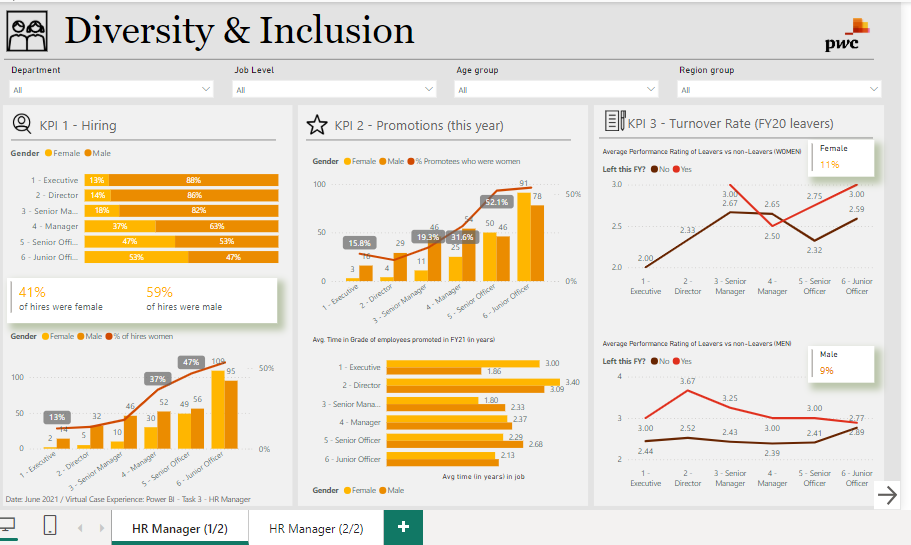

The dashboard page shown, as its layout file describes it:
{"tool":"powerbi","page":{"name":"HR Manager (1/2)","canvas":[1280,720],"ordinal":0},"visuals":[{"type":"textbox","box":[88.7,4.8,1172.9,75.2],"z":0},{"type":"basicShape","box":[0,60.8,1253,40.5],"z":1000},{"type":"basicShape","box":[3.9,139.9,418.6,579.7],"z":2000},{"type":"hundredPercentStackedBarChart","fields":{"Series":["HR Manager.Gender"],"Y":["CountNonNull(HR Manager.Employee ID)"],"Category":["HR Manager.Job Level after FY20 promotions"]},"box":[14.5,193.9,389.7,190],"z":3000},{"type":"multiRowCard","fields":{"Values":["HR Manager.% of hires women","HR Manager.% of hires men"]},"box":[14.5,390.7,382.9,63.7],"z":4000},{"type":"lineClusteredColumnComboChart","fields":{"Category":["HR Manager.Job Level after FY20 promotions"],"Series":["HR Manager.Gender"],"Y":["CountNonNull(HR Manager.Employee ID)"],"Y2":["HR Manager.% of hires women"]},"box":[14.5,455.3,382.9,250.8],"z":5000},{"type":"textbox","box":[55,155.3,315.4,35.7],"z":6000},{"type":"basicShape","box":[9.6,175.6,395.5,39.5],"z":7000},{"type":"basicShape","box":[422.5,139.9,419.6,579.7],"z":8000},{"type":"textbox","box":[473,155.7,315.4,35.7],"z":9000},{"type":"basicShape","box":[427.7,175.9,395.5,39.5],"z":10000},{"type":"image","box":[433.1,153.4,39.5,40.5],"z":11000},{"type":"lineClusteredColumnComboChart","fields":{"Y":["CountNonNull(HR Manager.Employee ID)"],"Series":["HR Manager.Gender"],"Y2":["HR Manager.% Promotees who were women"],"Category":["HR Manager.Job Level after FY21 promotions"]},"box":[441.8,207.4,389.7,263.3],"z":12000},{"type":"image","box":[1129,0,151,94.5],"z":13000},{"type":"image","box":[8.7,0,67.5,81],"z":14000},{"type":"image","box":[15.4,153.4,39.5,38.6],"z":15000},{"type":"basicShape","box":[842.1,139.9,419.6,579.7],"z":16000},{"type":"basicShape","box":[843.4,173,408,39.5],"z":17000},{"type":"textbox","box":[888.5,152.5,315.4,35.7],"z":18000},{"type":"clusteredBarChart","title":"Avg. Time in Grade of employees promoted in FY21 (in years)","fields":{"Category":["HR Manager.Job Level after FY20 promotions"],"Series":["HR Manager.Gender"],"Y":["Avg(HR Manager.Time in Job Level @01.07.2020)"]},"box":[441.8,473.6,389.7,236.3],"z":19000},{"type":"lineChart","title":"Average Performance Rating of Leavers vs non-Leavers (WOMEN)","fields":{"Category":["HR Manager.Job Level after FY20 promotions"],"Y":["Avg(HR Manager.FY19 Performance Rating)"],"Series":["HR Manager.FY20 leaver?"]},"box":[852.7,207.4,398.4,218],"z":20000},{"type":"lineChart","title":"Average Performance Rating of Leavers vs non-Leavers (MEN)","fields":{"Category":["HR Manager.Job Level after FY20 promotions"],"Y":["Avg(HR Manager.FY19 Performance Rating)"],"Series":["HR Manager.FY20 leaver?"]},"box":[852.7,479.4,398.4,218],"z":21000},{"type":"multiRowCard","fields":{"Values":["HR Manager.Gender","HR Manager.% Turnover"]},"box":[1148.8,195.8,93.6,52.1],"z":22000},{"type":"multiRowCard","fields":{"Values":["HR Manager.Gender","HR Manager.% Turnover"]},"box":[1148.8,487.1,93.6,52.1],"z":23000},{"type":"slicer","fields":{"Values":["HR Manager.Last Department in FY20"]},"box":[6.8,83.9,310,55.9],"z":24000},{"type":"slicer","fields":{"Values":["HR Manager.Job Level after FY20 promotions"]},"box":[322.5,83.9,310,55.9],"z":25000},{"type":"slicer","fields":{"Values":["HR Manager.Age group"]},"box":[638.2,83.9,310,55.9],"z":26000},{"type":"slicer","fields":{"Values":["HR Manager.Broad region group: nationality 1"]},"box":[954,83.9,310,55.9],"z":27000},{"type":"image","box":[852.7,149.5,47.3,38.6],"z":28000},{"type":"actionButton","box":[1243.1,679.1,36.9,40.2],"z":29000},{"type":"textbox","box":[7.7,689.7,397.4,29.9],"z":30000}]}

Visuals, with their boxes on the page's 1280x720 design canvas (x1, y1, x2, y2). These are canvas units, not pixel positions in the 911x545 screenshot, which may show the page scaled, cropped or inside an application window:
textbox: 89 5 1262 80
basicShape: 0 61 1253 101
basicShape: 4 140 422 720
hundredPercentStackedBarChart - HR Manager.Gender x CountNonNull(HR Manager.Employee ID): 14 194 404 384
multiRowCard - HR Manager.% of hires women x HR Manager.% of hires men: 14 391 397 454
lineClusteredColumnComboChart - HR Manager.Job Level after FY20 promotions x HR Manager.Gender: 14 455 397 706
textbox: 55 155 370 191
basicShape: 10 176 405 215
basicShape: 422 140 842 720
textbox: 473 156 788 191
basicShape: 428 176 823 215
image: 433 153 473 194
lineClusteredColumnComboChart - CountNonNull(HR Manager.Employee ID) x HR Manager.Gender: 442 207 832 471
image: 1129 0 1280 94
image: 9 0 76 81
image: 15 153 55 192
basicShape: 842 140 1262 720
basicShape: 843 173 1251 212
textbox: 888 152 1204 188
"Avg. Time in Grade of employees promoted in FY21 (in years)" clusteredBarChart: 442 474 832 710
"Average Performance Rating of Leavers vs non-Leavers (WOMEN)" lineChart: 853 207 1251 425
"Average Performance Rating of Leavers vs non-Leavers (MEN)" lineChart: 853 479 1251 697
multiRowCard - HR Manager.Gender x HR Manager.% Turnover: 1149 196 1242 248
multiRowCard - HR Manager.Gender x HR Manager.% Turnover: 1149 487 1242 539
slicer - HR Manager.Last Department in FY20: 7 84 317 140
slicer - HR Manager.Job Level after FY20 promotions: 322 84 632 140
slicer - HR Manager.Age group: 638 84 948 140
slicer - HR Manager.Broad region group: nationality 1: 954 84 1264 140
image: 853 150 900 188
actionButton: 1243 679 1280 719
textbox: 8 690 405 720
